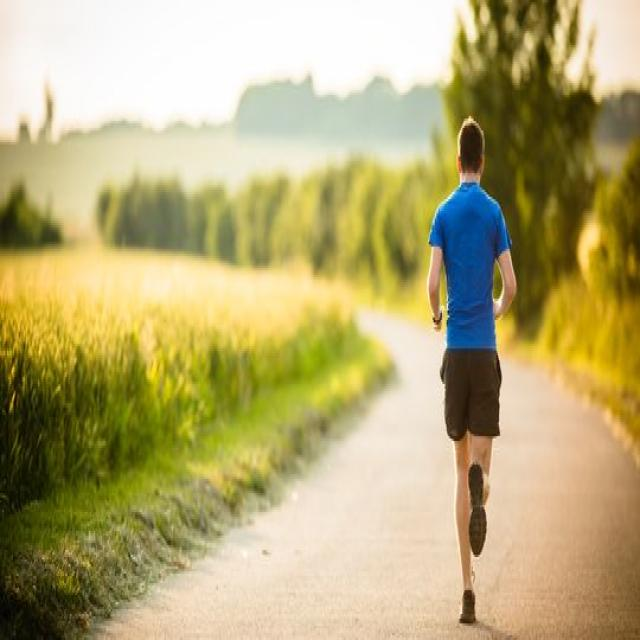Person: (427, 116, 517, 624)
